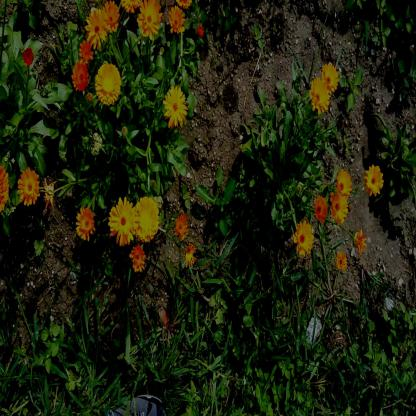marigold: (132, 196, 159, 242), (109, 198, 135, 244), (162, 86, 188, 129), (136, 0, 162, 42), (93, 64, 119, 103), (17, 167, 39, 206), (74, 206, 95, 242), (329, 189, 349, 225), (294, 219, 314, 254), (100, 0, 120, 34), (311, 77, 329, 113), (364, 165, 384, 197), (126, 245, 145, 275), (168, 5, 186, 34), (335, 168, 352, 198), (71, 60, 86, 90), (87, 13, 103, 40), (313, 194, 328, 222), (324, 63, 340, 88), (80, 38, 94, 64), (174, 213, 187, 238), (336, 250, 348, 272)
